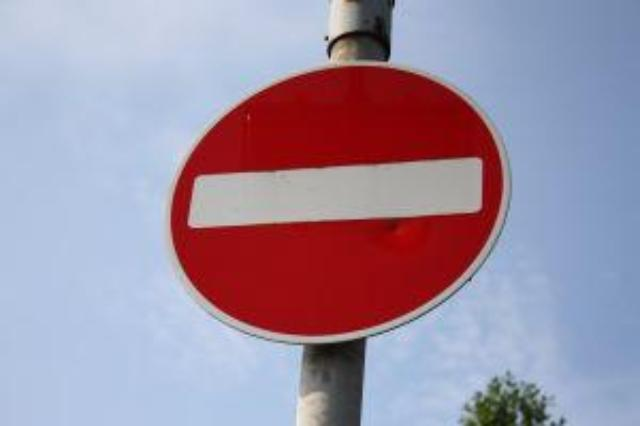B2: (164, 58, 512, 346)
